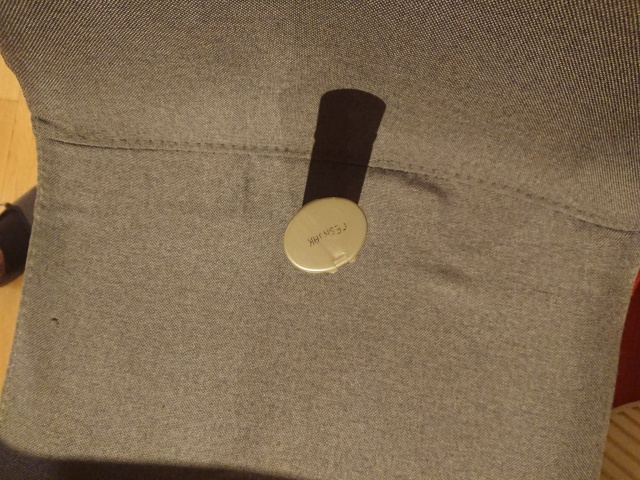Kotanyi Garlic Granules 70g: (281, 194, 370, 275)
